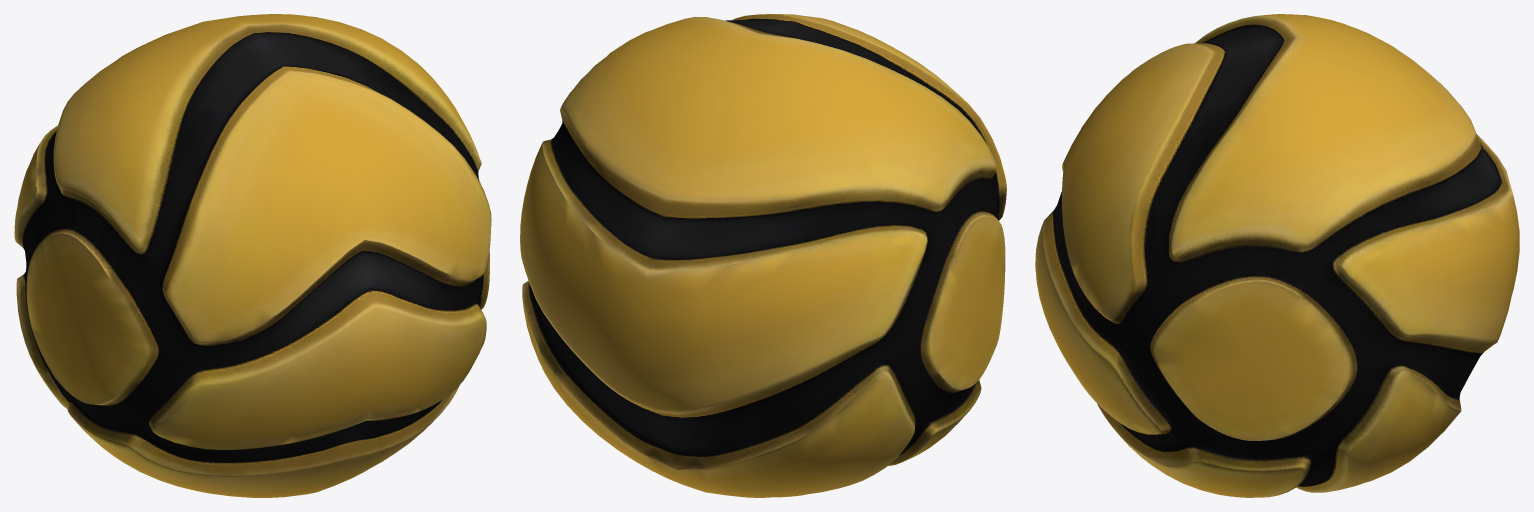
File: grd.glb
The picture shows the model from 3 angles, left to right: view 1: azimuth 30°, elevation 25°; view 2: azimuth 150°, elevation 25°; view 3: azimuth 270°, elevation 25°; orthographic projection. The views are drawn at different scales.
Parts seen in each view (by area): view 1: Object_2; view 2: Object_2; view 3: Object_2.
Boxes of the visible parts, x1,y1,x2,y2 form: Object_2: [14, 14, 491, 497]; Object_2: [520, 14, 1006, 497]; Object_2: [1035, 14, 1519, 497].
Size of the model in its own units: 530 by 557 by 558.
1 material, 1 textured.
